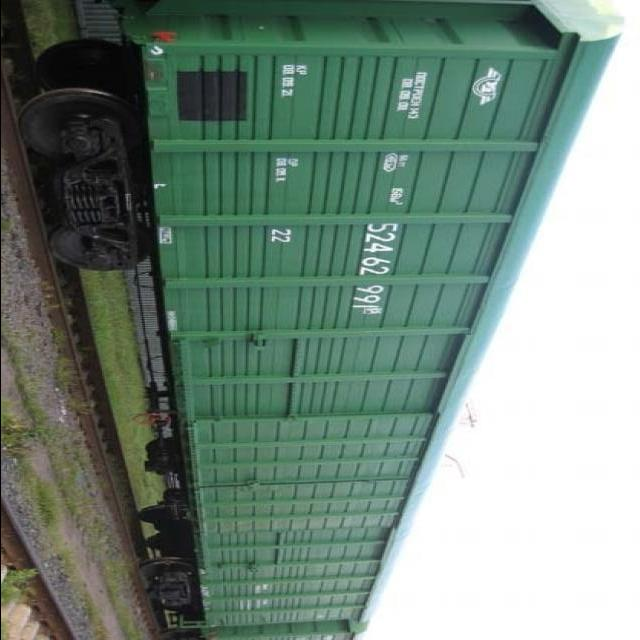wagon: (342, 221, 403, 310)
